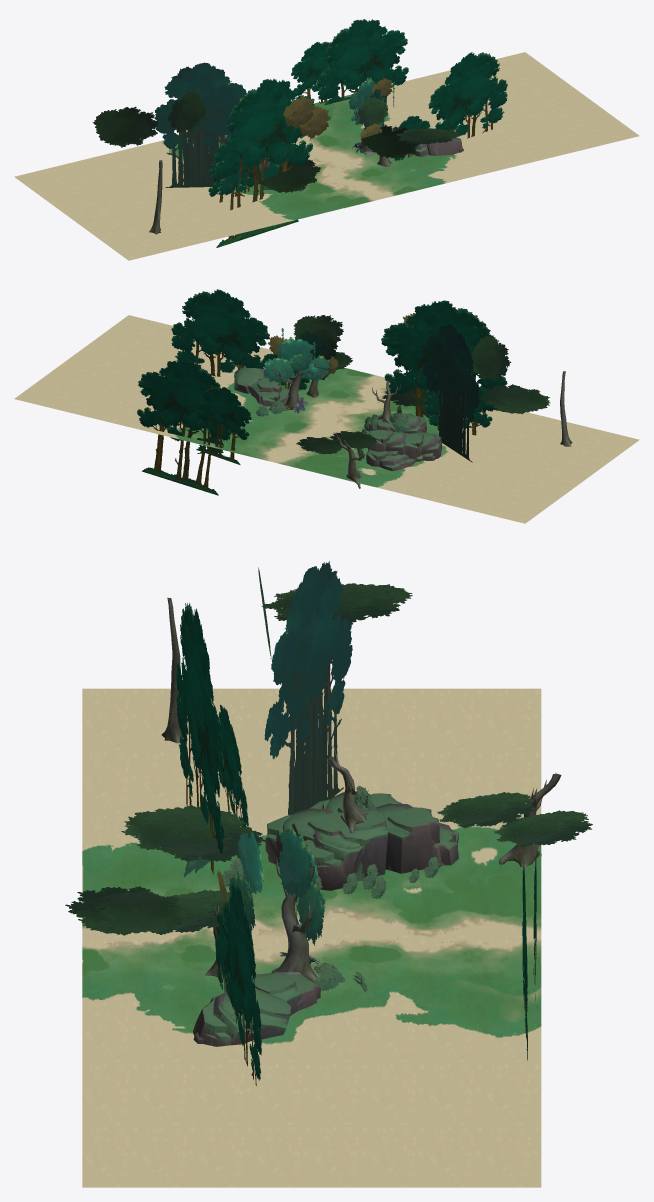
The model's file is chunk_1.glb.
3 renders of one model, top to bottom at view 1: azimuth 30°, elevation 25°; view 2: azimuth 150°, elevation 25°; view 3: azimuth 270°, elevation 25°, orthographic. The views are drawn at different scales.
Visible parts, largest first — view 1: Mesh_terrain_map_shulin_001_a_1, x46_SL_Plant_02 (×6), x46_SL_Plant_01b (×6), x46_SL_Plant_03, x46_SL_Plant_01a (×2), map_world002_stone_014b, x46_SL_Tree_003 (2); view 2: Mesh_terrain_map_shulin_001_a_1, x46_SL_Plant_02 (×5), x46_SL_Plant_01b (×7), x46_SL_Plant_03, map_world002_stone_014a (×4), x46_SL_Plant_01c (×2), x46_SL_Plant_01a, map_world002_stone_014b, x46_SL_Tree_001 (3), x46_SL_Tree_001 (2), x46_SL_Tree_003 (2), x46_SL_Tree_001 (1); view 3: Mesh_terrain_map_shulin_001_a_1, x46_SL_Plant_01b (×6), x46_SL_Plant_03, x46_SL_Plant_02 (×3), map_world002_stone_014a (×5), x46_SL_Plant_01c (×2), map_world002_stone_014b (×2), x46_SL_Tree_001 (3), x46_SL_Tree_003 (2), x46_SL_Plant_01a, x46_SL_Tree_001 (2), x46_SL_Tree_001 (1).
Boxes of the visible parts, left/top/right/bottom form: Mesh_terrain_map_shulin_001_a_1: left=14, top=52, right=639, bottom=260; x46_SL_Plant_02 (×6): left=208, top=19, right=507, bottom=247; x46_SL_Plant_01b (×6): left=92, top=92, right=461, bottom=192; x46_SL_Plant_03: left=154, top=62, right=246, bottom=187; x46_SL_Plant_01a (×2): left=283, top=95, right=330, bottom=141; map_world002_stone_014b: left=426, top=139, right=463, bottom=155; x46_SL_Tree_003 (2): left=149, top=160, right=162, bottom=234; Mesh_terrain_map_shulin_001_a_1: left=14, top=315, right=639, bottom=523; x46_SL_Plant_02 (×5): left=137, top=289, right=507, bottom=495; x46_SL_Plant_01b (×7): left=293, top=315, right=550, bottom=454; x46_SL_Plant_03: left=423, top=323, right=479, bottom=462; map_world002_stone_014a (×4): left=234, top=365, right=440, bottom=467; x46_SL_Plant_01c (×2): left=277, top=330, right=325, bottom=363; x46_SL_Plant_01a: left=263, top=357, right=294, bottom=383; map_world002_stone_014b: left=403, top=438, right=441, bottom=461; x46_SL_Tree_001 (3): left=271, top=360, right=316, bottom=409; x46_SL_Tree_001 (2): left=336, top=432, right=362, bottom=488; x46_SL_Tree_003 (2): left=560, top=371, right=572, bottom=446; x46_SL_Tree_001 (1): left=372, top=380, right=400, bottom=423; Mesh_terrain_map_shulin_001_a_1: left=82, top=688, right=541, bottom=1187; x46_SL_Plant_01b (×6): left=65, top=583, right=592, bottom=935; x46_SL_Plant_03: left=264, top=561, right=352, bottom=815; x46_SL_Plant_02 (×3): left=176, top=603, right=261, bottom=1085; map_world002_stone_014a (×5): left=202, top=803, right=438, bottom=1043; x46_SL_Plant_01c (×2): left=238, top=828, right=312, bottom=897; map_world002_stone_014b (×2): left=314, top=815, right=439, bottom=890; x46_SL_Tree_001 (3): left=271, top=857, right=317, bottom=982; x46_SL_Tree_003 (2): left=161, top=597, right=183, bottom=743; x46_SL_Plant_01a: left=296, top=878, right=325, bottom=948; x46_SL_Tree_001 (2): left=499, top=772, right=561, bottom=867; x46_SL_Tree_001 (1): left=328, top=745, right=367, bottom=833.
Size of the model in its own units: 81 by 27.48 by 37.07.
13 materials, 13 textured.
